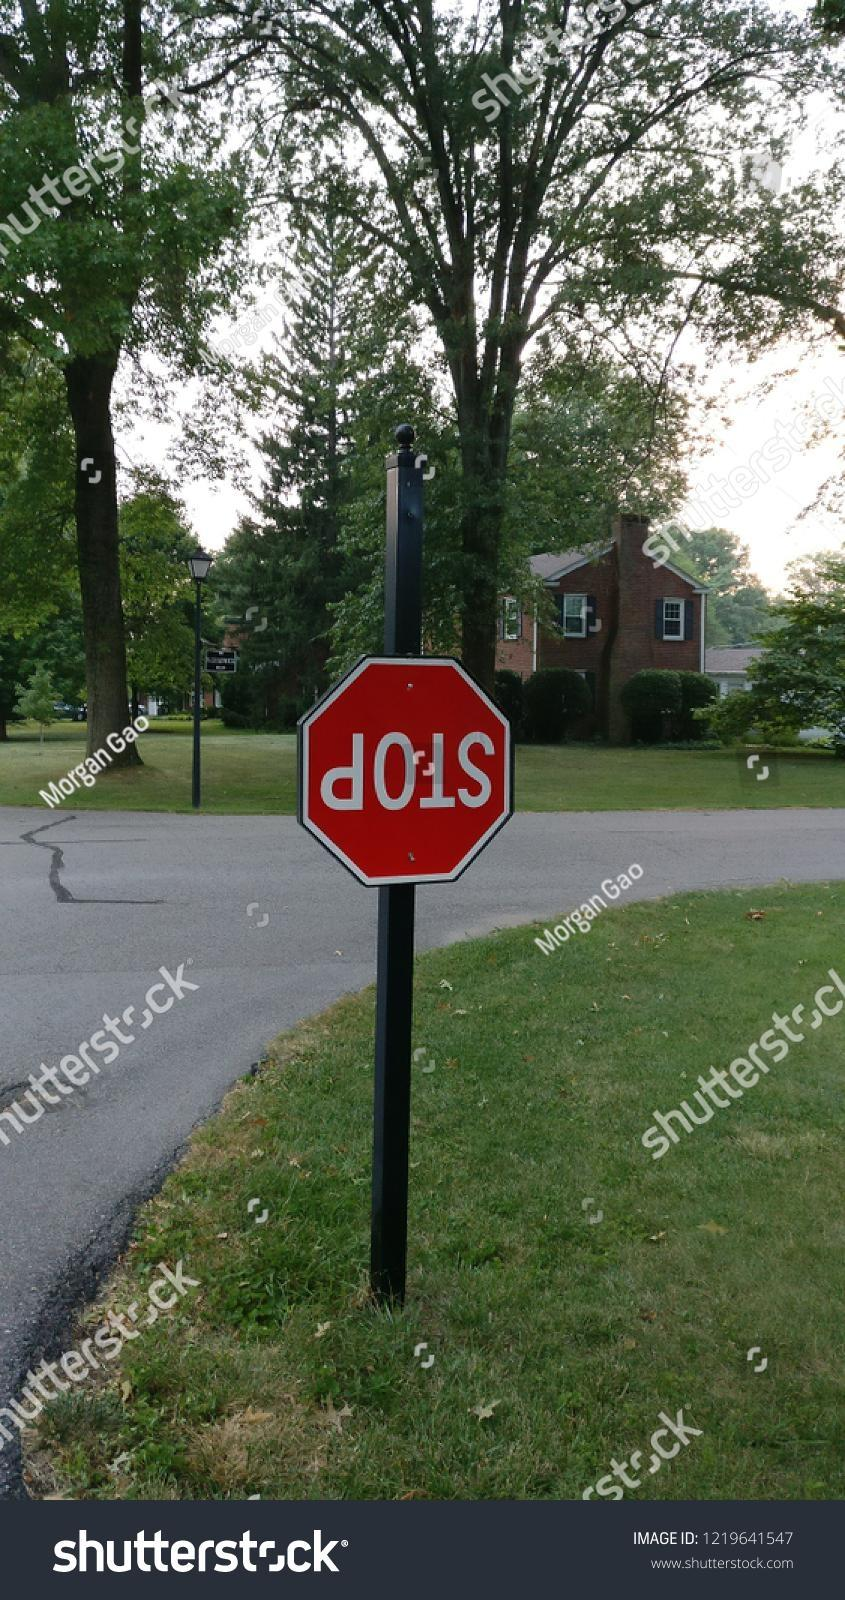Stop-Sign: (291, 648, 520, 894)
